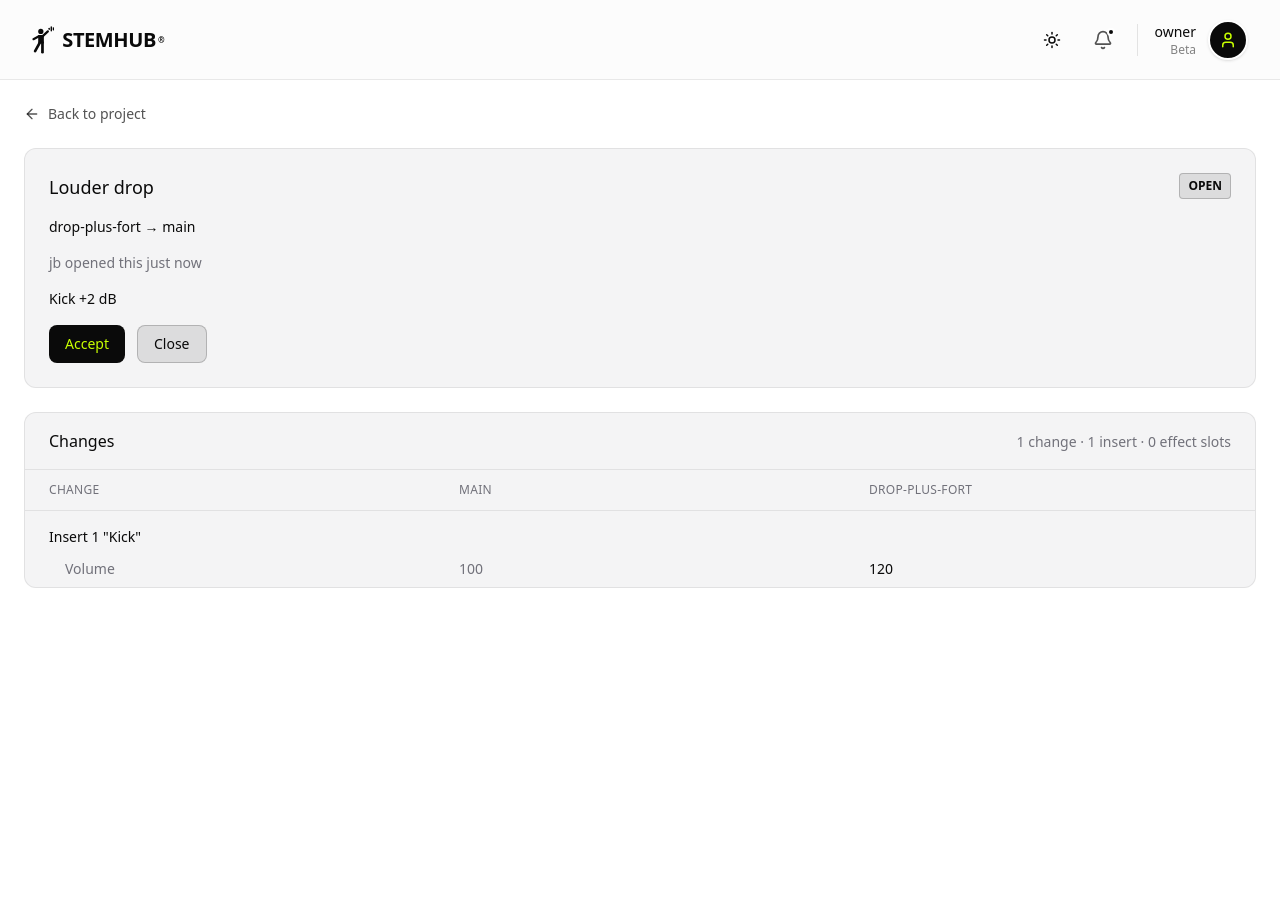
Scenario: PullRequestPage › shows the server's refusal and keeps the pull request open
The width and height of the screenshot is (1280, 900).
Click the button "Accept".
click(87, 344)  # box [49,325,125,363]
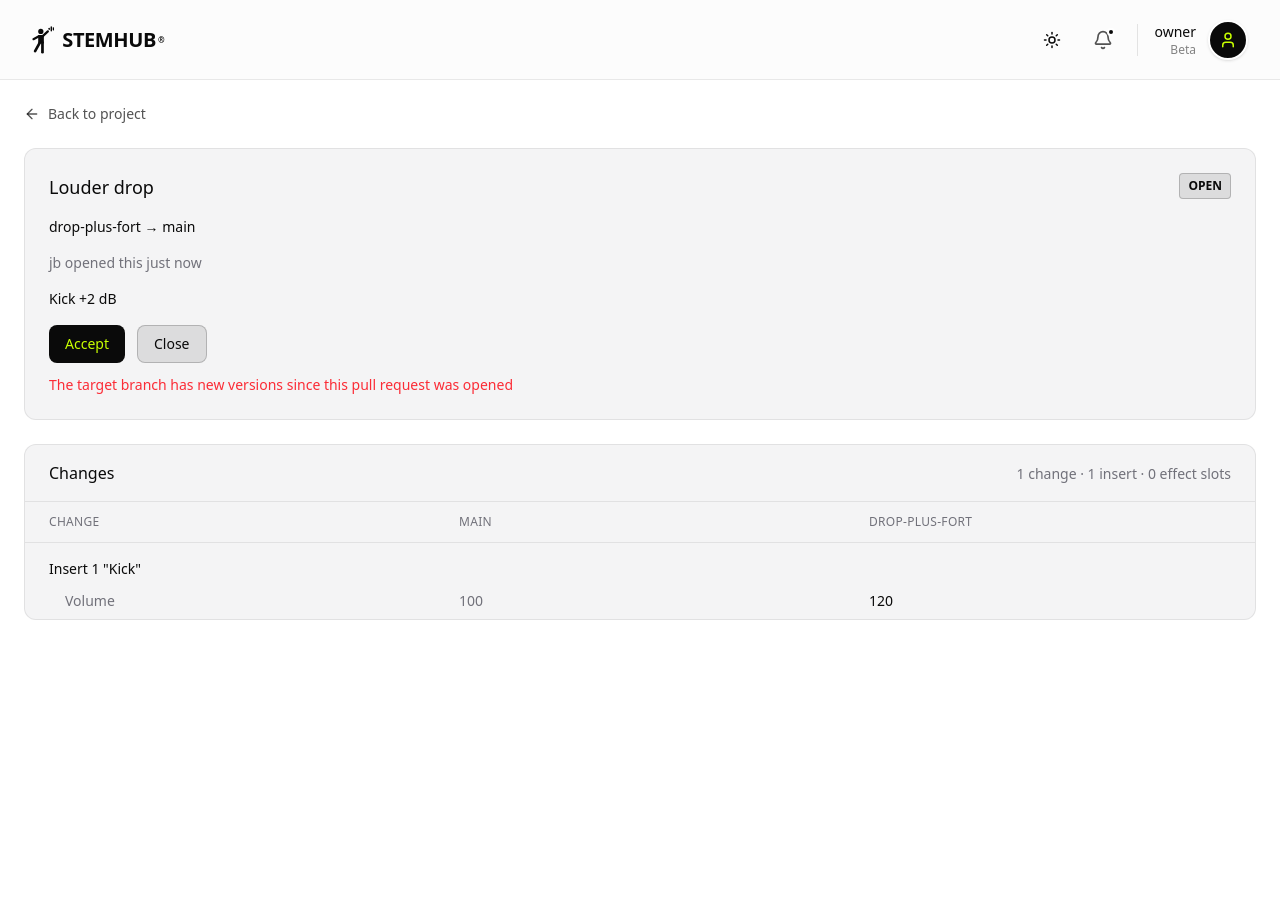
Expected: the text "OPEN" is shown, [1179,173,1231,199]
Expected: the text "The target branch has new versions since this pull request was opened" is shown, [49,375,513,394]
